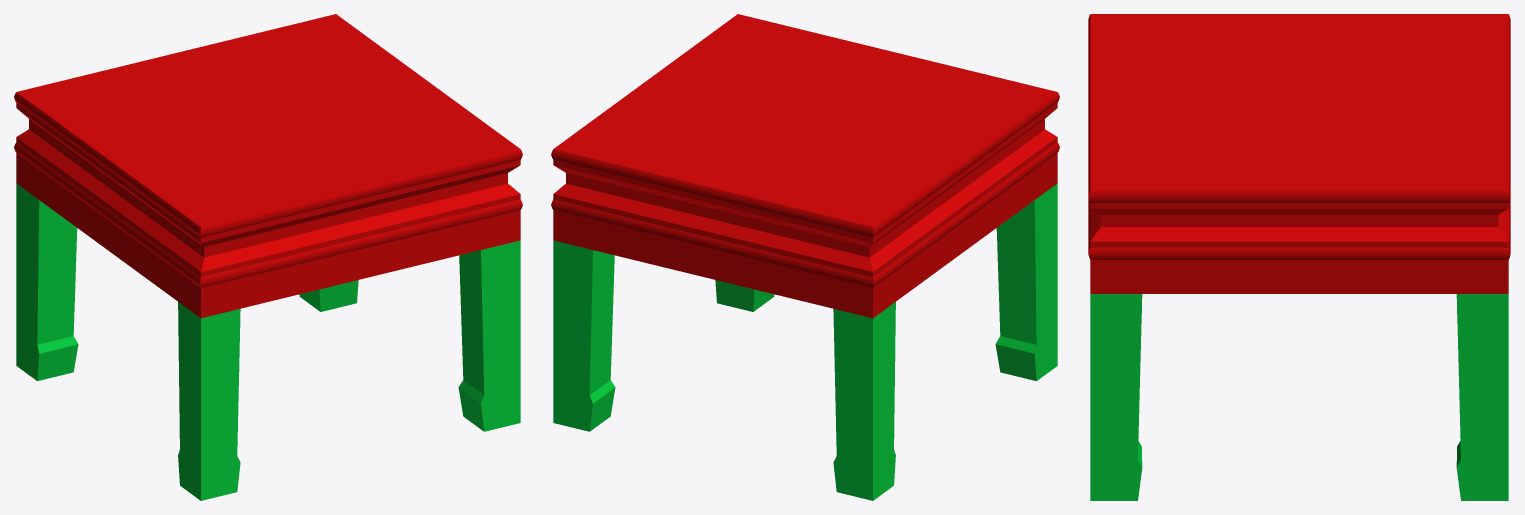
Rendered from rosewood_table_small.FBX.
The picture shows the model from 3 angles, left to right: view 1: azimuth 30°, elevation 25°; view 2: azimuth 150°, elevation 25°; view 3: azimuth 270°, elevation 25°; orthographic projection. The views are drawn at different scales.
Parts seen in each view (by area): view 1: Object001; view 2: Object001; view 3: Object001.
Part boxes in pixels (box(x1,y1,x2,y2)): Object001: box(14, 14, 522, 500); Object001: box(551, 14, 1059, 500); Object001: box(1088, 14, 1510, 500).
Size of the model in its own units: 0.5548 by 0.5548 by 0.45.
